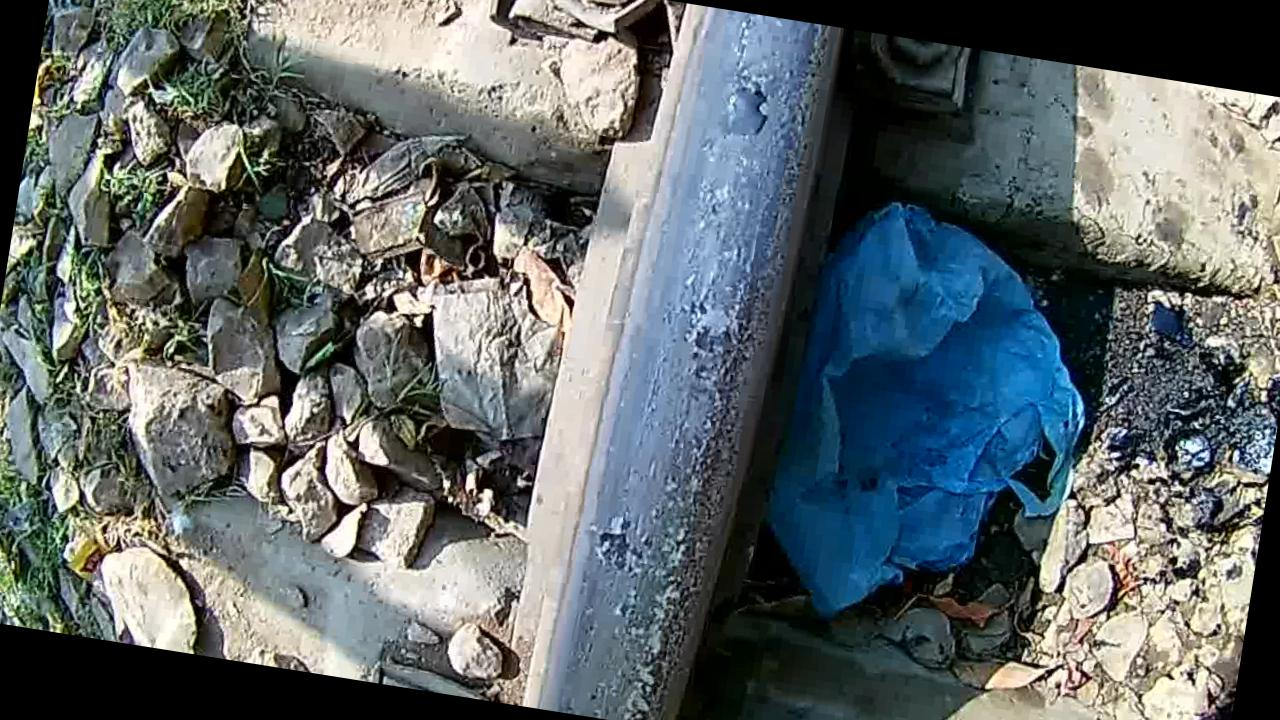crack: (568, 2, 833, 720)
